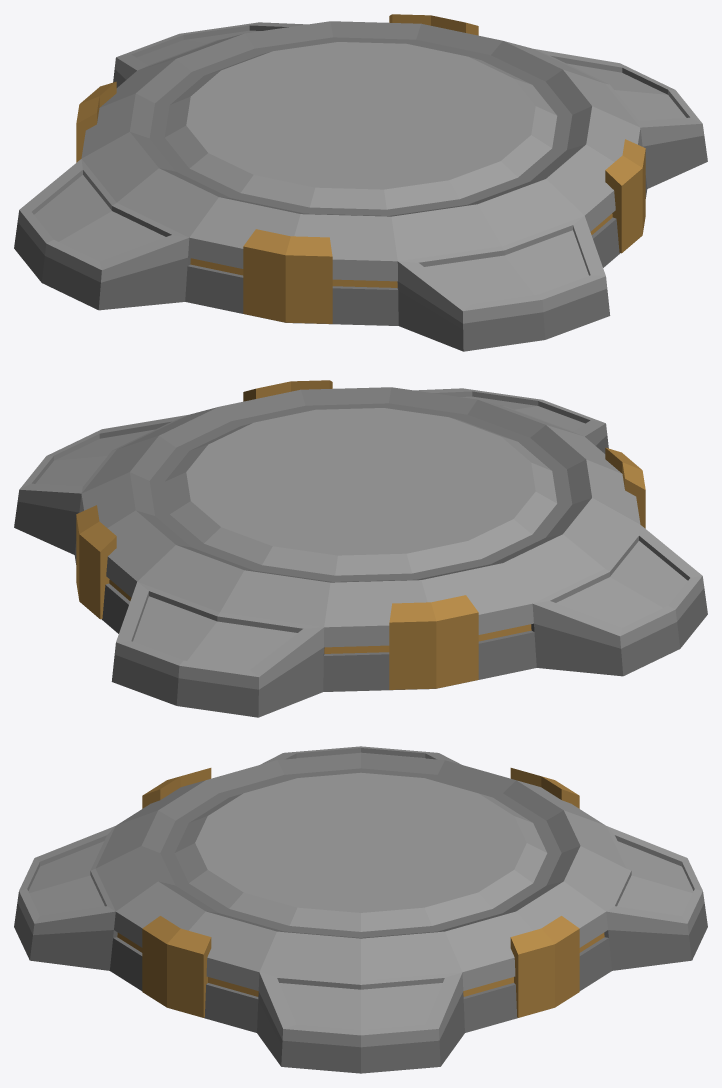
3 views of the same model, one above another, from view 1: azimuth 30°, elevation 25°; view 2: azimuth 150°, elevation 25°; view 3: azimuth 270°, elevation 25° (orthographic). The views are drawn at different scales.
Parts seen in each view (by area): view 1: Props_Base; view 2: Props_Base; view 3: Props_Base.
Boxes of the visible parts, x1=… form: Props_Base: x1=14, y1=14, x2=707, y2=351; Props_Base: x1=14, y1=380, x2=707, y2=717; Props_Base: x1=14, y1=746, x2=707, y2=1073.
Bounding box in the file's own units: 2.4 × 0.3203 × 2.4.
